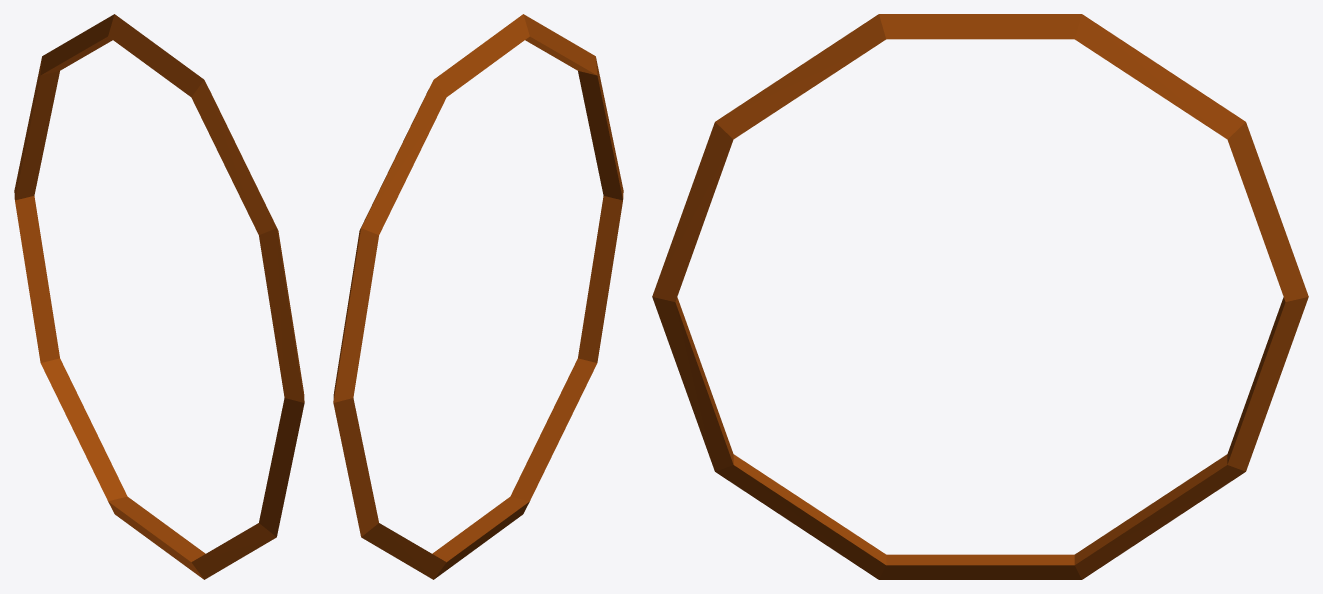
The model's file is HOOLA.obj.
The picture shows the model from 3 angles, left to right: view 1: azimuth 30°, elevation 25°; view 2: azimuth 150°, elevation 25°; view 3: azimuth 270°, elevation 25°; orthographic projection. The views are drawn at different scales.
Parts seen in each view (by area): view 1: HOOLA_node00_face00, HOOLA_node00_face04, HOOLA_node00_face02; view 2: HOOLA_node00_face00, HOOLA_node00_face04, HOOLA_node00_face02; view 3: HOOLA_node00_face00, HOOLA_node00_face04, HOOLA_node00_face03, HOOLA_node00_face01.
Boxes of the visible parts, x1,y1,x2,y2 form: HOOLA_node00_face00: (14, 14, 304, 579); HOOLA_node00_face04: (191, 80, 304, 402); HOOLA_node00_face02: (41, 14, 203, 97); HOOLA_node00_face00: (333, 80, 622, 579); HOOLA_node00_face04: (523, 14, 623, 200); HOOLA_node00_face02: (434, 14, 529, 97); HOOLA_node00_face00: (652, 122, 1308, 579); HOOLA_node00_face04: (652, 14, 886, 301); HOOLA_node00_face03: (879, 14, 1081, 39); HOOLA_node00_face01: (1074, 14, 1245, 139).
Bounding box in the file's own units: 66 × 1611 × 1694.
